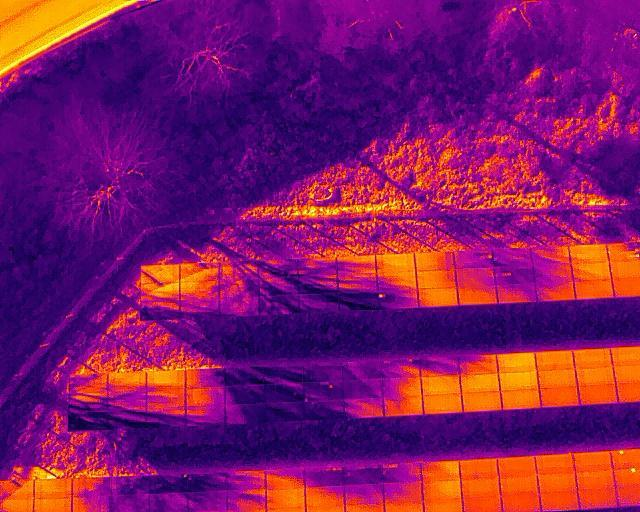Cell: (378, 290, 419, 309)
No-Anomaly: (579, 487, 617, 510), (422, 459, 461, 481), (539, 385, 580, 405), (420, 374, 461, 394), (461, 390, 502, 410), (538, 474, 577, 495), (534, 350, 574, 370), (423, 481, 461, 502), (461, 479, 499, 500), (419, 287, 458, 307), (458, 285, 497, 305), (498, 456, 537, 476), (500, 389, 541, 408), (500, 476, 537, 497), (498, 370, 538, 389), (266, 490, 304, 510), (415, 251, 455, 270), (460, 459, 498, 479), (573, 451, 613, 470), (575, 367, 617, 385), (537, 454, 573, 475), (574, 280, 613, 299), (34, 479, 73, 498), (423, 393, 462, 412), (576, 468, 613, 488), (578, 385, 619, 403), (459, 372, 500, 390), (573, 349, 614, 367), (375, 254, 416, 272), (417, 269, 455, 288), (572, 263, 612, 281), (570, 244, 610, 262), (537, 370, 576, 387), (498, 354, 537, 371), (147, 370, 185, 387), (108, 371, 146, 387), (502, 496, 540, 512), (539, 496, 577, 512), (34, 498, 72, 512)
Shadowing: (344, 459, 383, 484), (306, 461, 344, 486), (345, 484, 384, 507), (68, 410, 108, 432), (228, 489, 266, 512), (384, 460, 422, 483), (419, 354, 460, 375), (189, 490, 228, 512), (227, 468, 266, 490), (219, 296, 259, 317), (259, 295, 299, 316), (72, 476, 112, 497), (343, 397, 383, 418), (266, 469, 306, 490), (145, 407, 185, 428), (306, 486, 344, 508), (384, 483, 422, 505), (188, 471, 226, 493), (185, 386, 224, 407), (265, 383, 304, 404), (382, 376, 421, 397), (459, 352, 498, 373), (140, 281, 179, 302), (219, 278, 258, 299), (107, 387, 146, 408), (226, 404, 265, 425), (225, 383, 265, 403), (140, 263, 180, 283), (303, 380, 341, 401), (109, 409, 147, 430), (180, 298, 219, 318), (298, 274, 337, 294), (218, 261, 259, 280), (382, 355, 419, 376), (343, 379, 383, 398), (259, 276, 297, 296), (494, 265, 534, 284), (150, 491, 188, 511), (383, 396, 423, 415), (146, 387, 184, 407), (69, 373, 108, 392), (185, 367, 224, 386), (299, 294, 338, 313), (338, 292, 377, 311), (535, 282, 574, 301), (180, 281, 219, 300), (498, 283, 535, 303), (140, 302, 178, 321), (337, 273, 375, 292), (455, 266, 493, 285), (112, 476, 150, 495), (266, 404, 304, 423), (377, 272, 417, 290), (151, 474, 187, 494), (185, 407, 225, 425), (226, 366, 265, 384), (303, 401, 342, 419), (68, 392, 107, 410), (493, 248, 532, 266), (303, 363, 341, 381), (534, 265, 572, 283), (454, 250, 492, 268), (342, 361, 382, 378), (266, 365, 303, 383), (532, 247, 569, 265), (185, 369, 224, 386), (180, 263, 219, 280), (337, 256, 376, 273), (298, 258, 336, 275), (112, 495, 149, 512), (72, 497, 112, 512)
